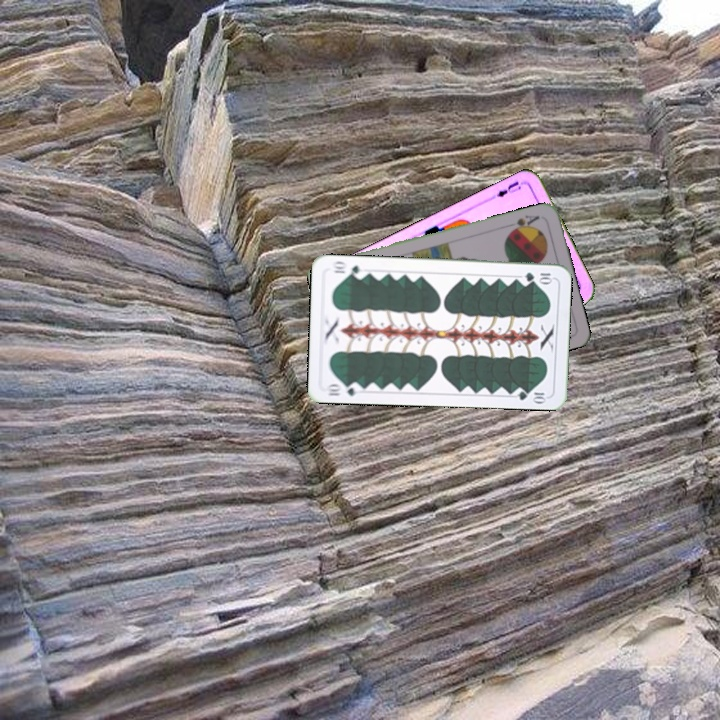EU: (488, 177, 526, 203)
G10: (322, 379, 363, 398), (520, 268, 555, 284)
SA: (506, 210, 542, 235)
